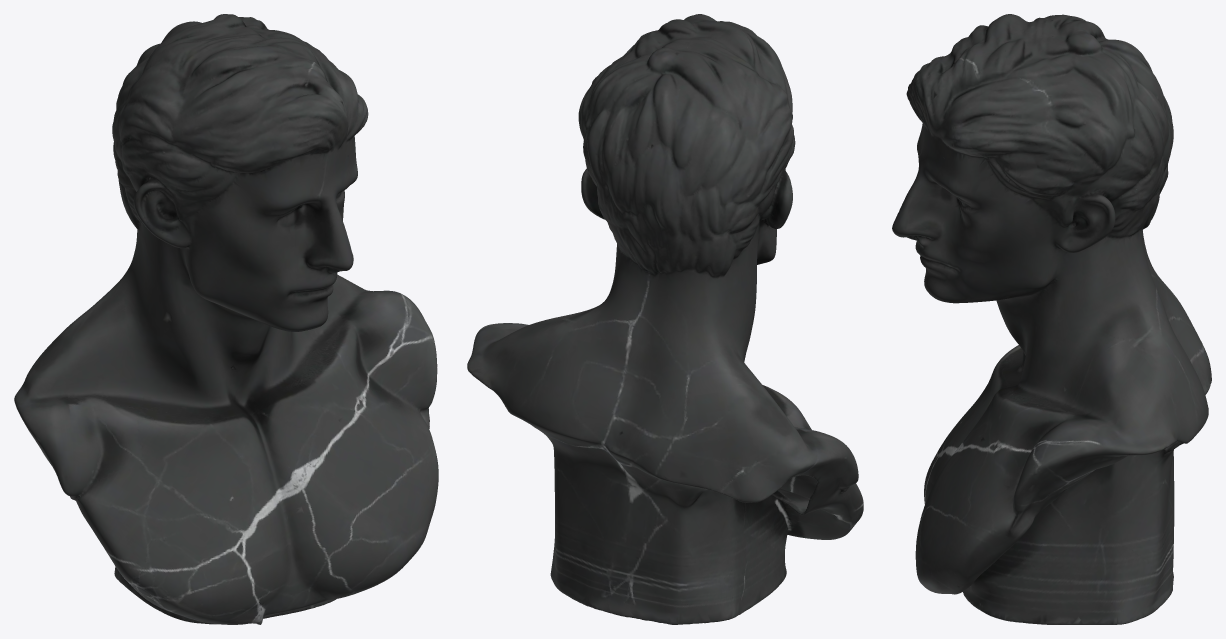
File: model_tex_optimized.glb
The picture shows the model from 3 angles, left to right: view 1: azimuth 30°, elevation 25°; view 2: azimuth 150°, elevation 25°; view 3: azimuth 270°, elevation 25°; orthographic projection. The views are drawn at different scales.
Size of the model in its own units: 1.42 by 2 by 1.06.
Materials: 1 (1 with a texture image).
